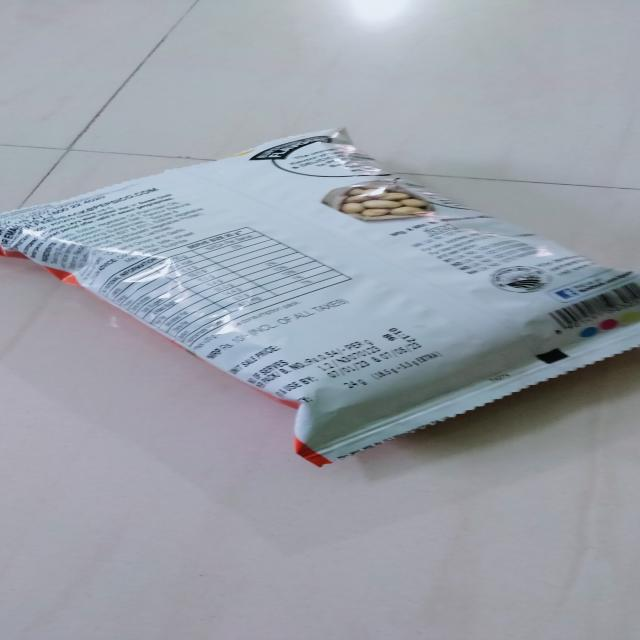lays: (0, 128, 640, 468)
